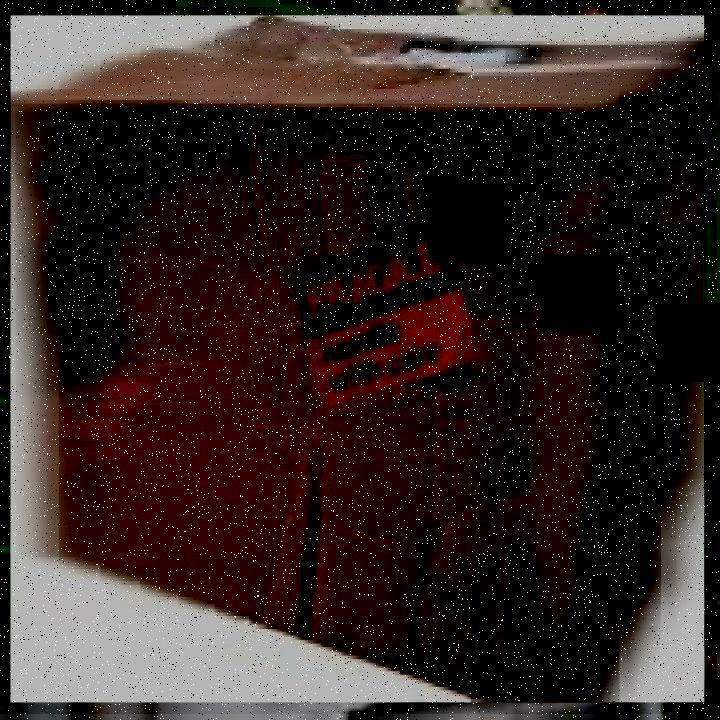box: (0, 8, 717, 715)
